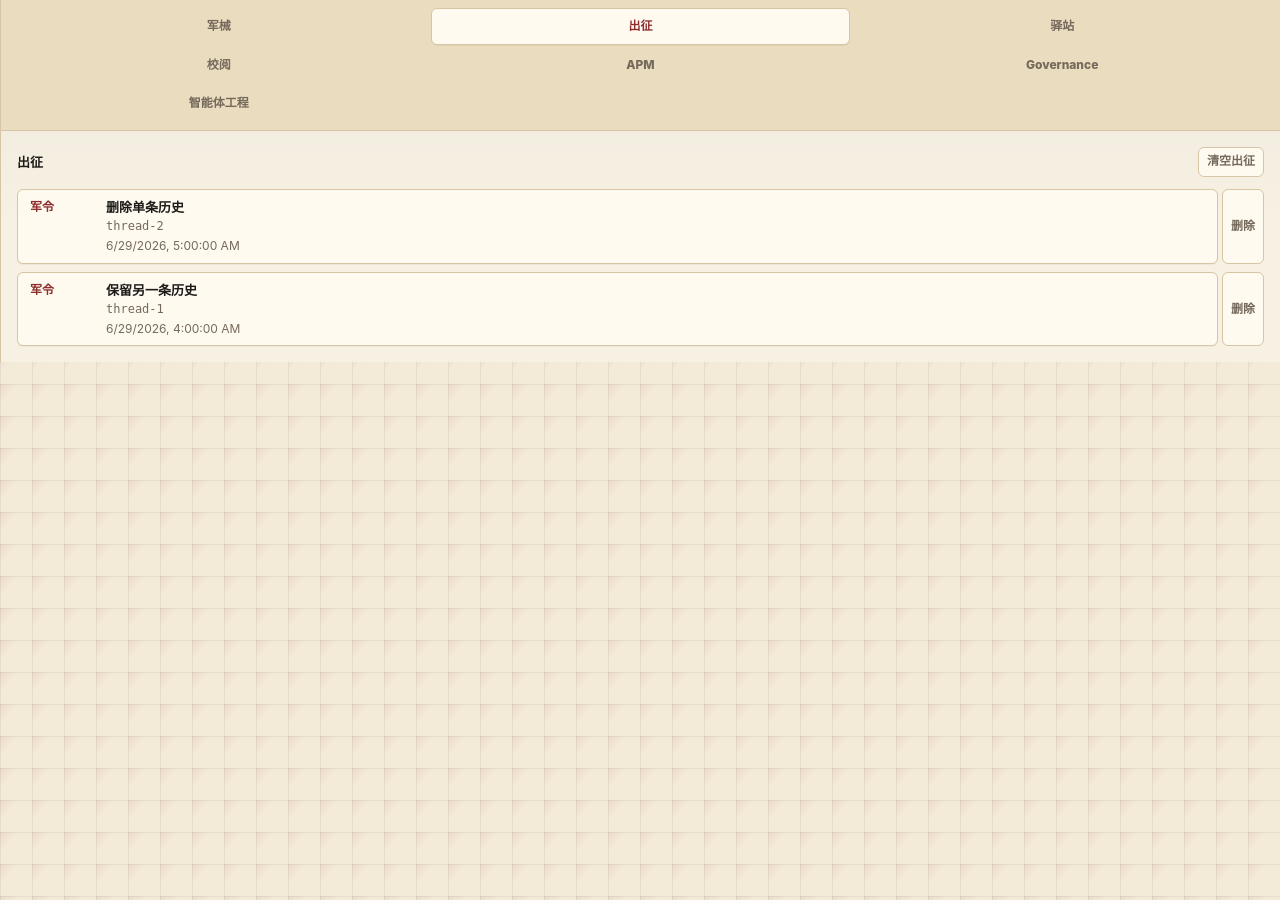
Sidebar › deletes a single conversation from history
The width and height of the screenshot is (1280, 900).
Click the tab "出征".
click(641, 26)  # box [431,8,850,45]
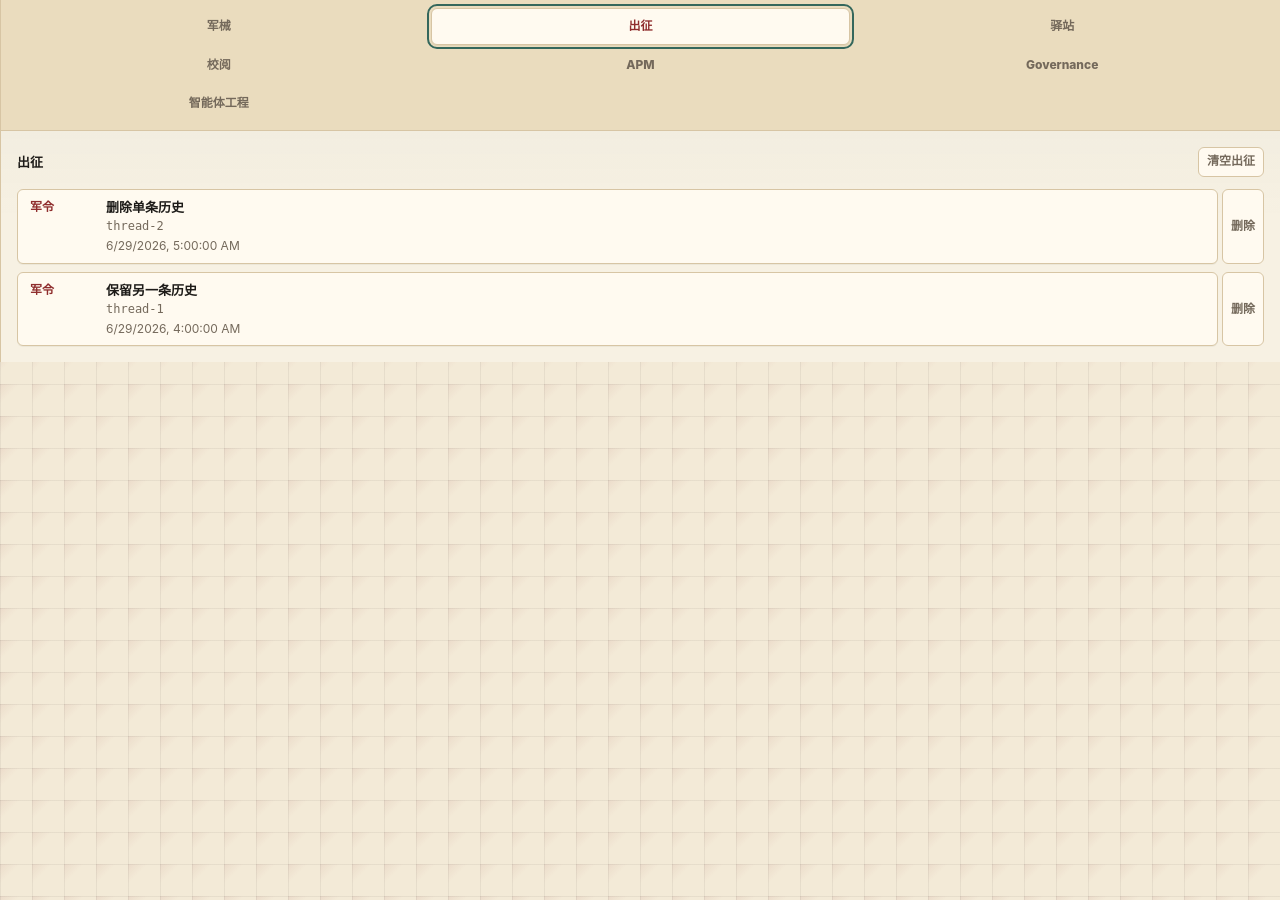
Click the button with aria-label "delete session thread-2".
click(1243, 226)  # box [1222,189,1264,264]
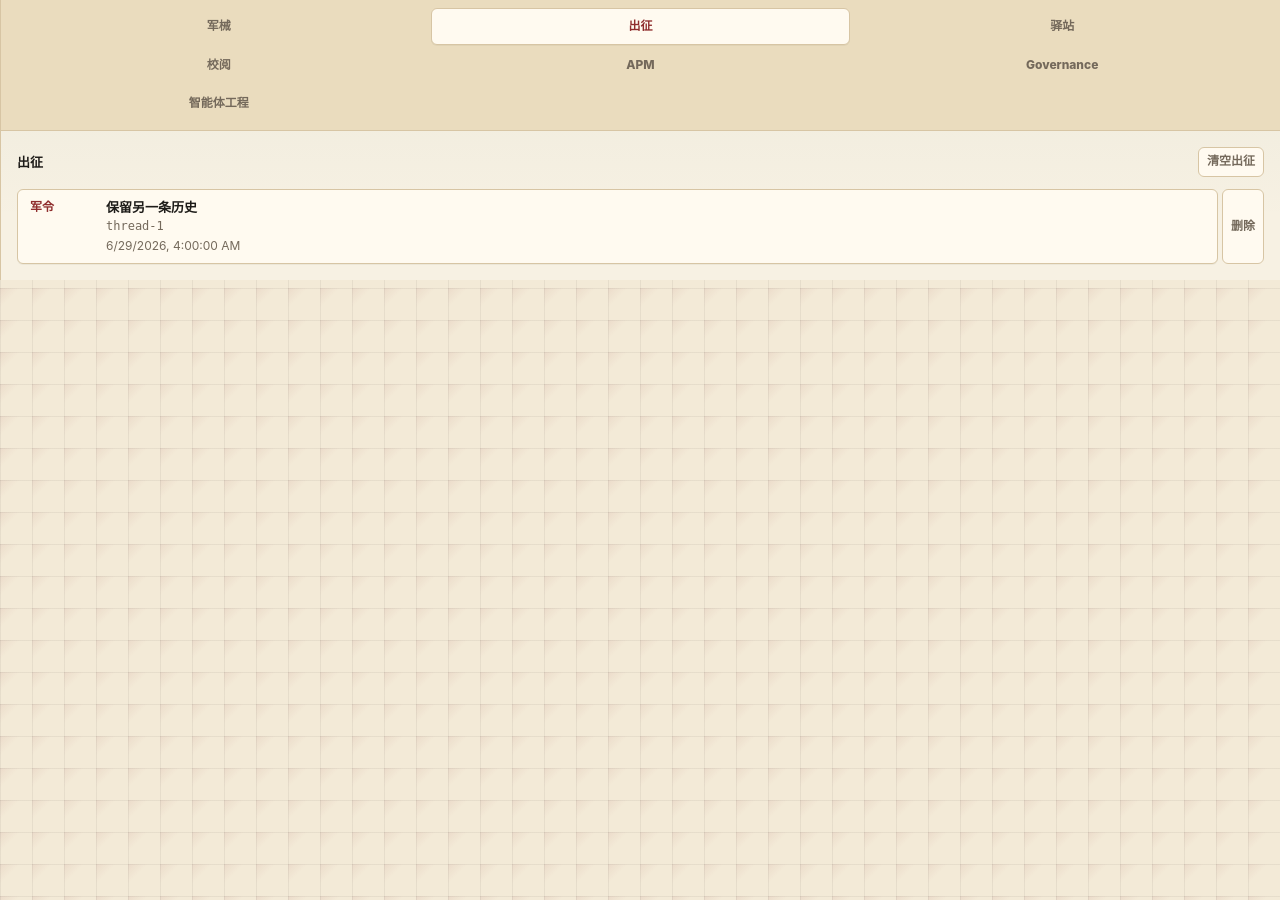
Expected: the text "thread-1" is shown, [106,219,164,233]
Expected: the button "thread-2" is gone
